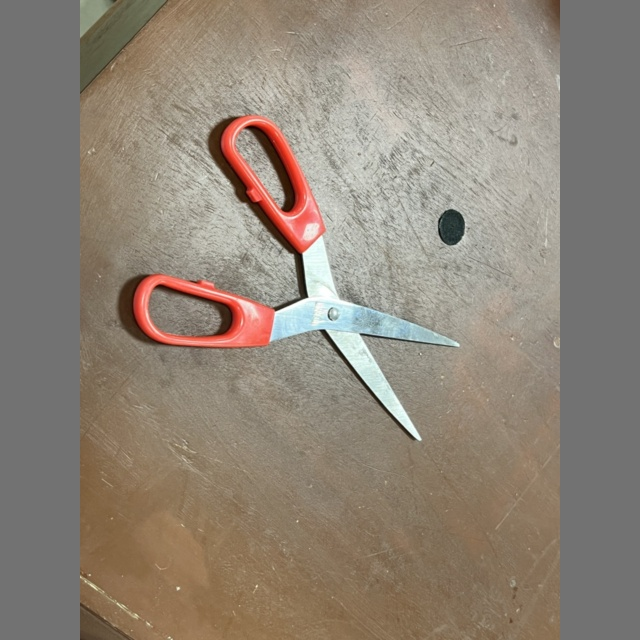scissor: (133, 116, 458, 440)
